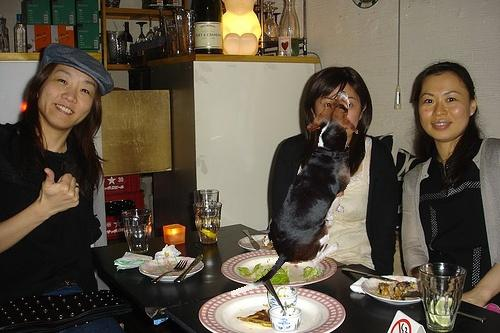tampered: (231, 91, 358, 295)
